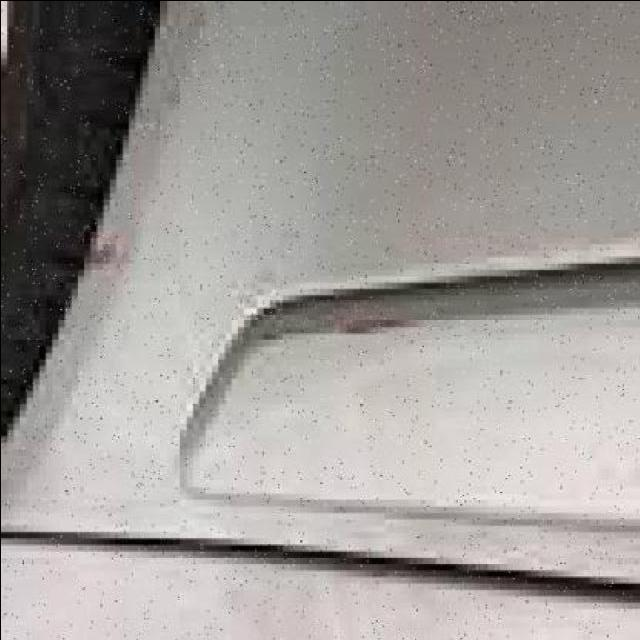front-bumper-dent: (6, 6, 640, 640)
